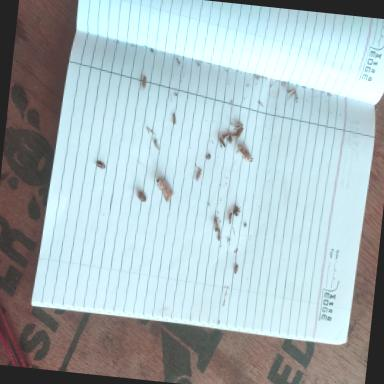pbw: (92, 160, 106, 170), (141, 76, 147, 92), (218, 138, 226, 149), (196, 170, 202, 182), (222, 134, 231, 142), (228, 212, 233, 224), (172, 114, 177, 125), (288, 88, 296, 94), (216, 227, 221, 236), (234, 264, 238, 274)
